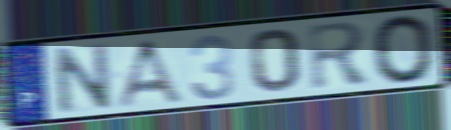0: (246, 27, 305, 95)
3: (187, 32, 236, 102)
A: (112, 37, 186, 110)
N: (50, 40, 115, 116)
O: (369, 12, 437, 86)
R: (305, 19, 374, 93)
